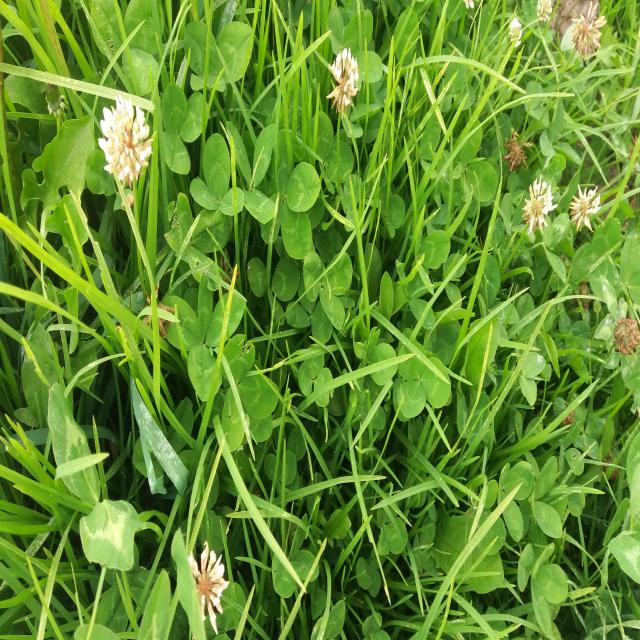Four Leaf Clover: (161, 272, 245, 402), (260, 129, 321, 260)
